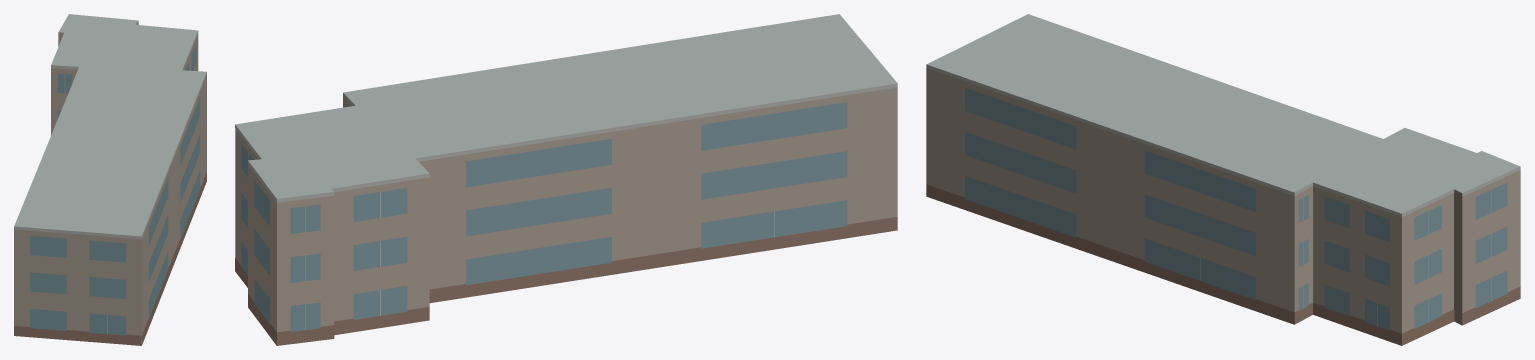
Rendered from survey-upis-32647087.glb.
3 views of the same model, side by side, from view 1: azimuth 30°, elevation 25°; view 2: azimuth 150°, elevation 25°; view 3: azimuth 270°, elevation 25° (orthographic). The views are drawn at different scales.
Visible parts, largest first — view 1: survey-upis-32647087.tmp; view 2: survey-upis-32647087.tmp; view 3: survey-upis-32647087.tmp.
Part boxes in pixels (x1,y1,x2,y2): survey-upis-32647087.tmp: (14, 14, 206, 345); survey-upis-32647087.tmp: (235, 14, 897, 345); survey-upis-32647087.tmp: (926, 14, 1520, 345).
Bounding box in the file's own units: 29.65 × 9.15 × 37.27.
